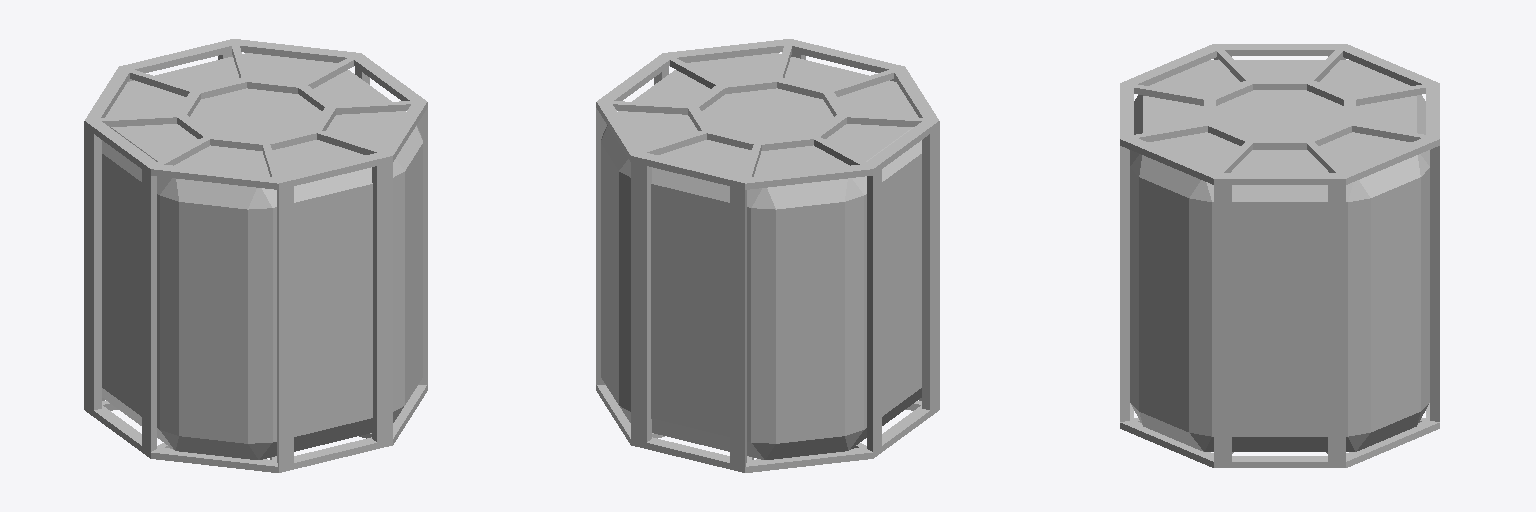
File: fuel3x3.obj
The picture shows the model from 3 angles: view 1: azimuth 30°, elevation 25°; view 2: azimuth 150°, elevation 25°; view 3: azimuth 270°, elevation 25°; orthographic projection.
Parts seen in each view (by area): view 1: Cube_Cube.009, 3x3RFrame.001_Cylinder.016; view 2: Cube_Cube.009, 3x3RFrame.001_Cylinder.016; view 3: Cube_Cube.009, 3x3RFrame.001_Cylinder.016.
Part boxes in pixels (x1,y1,x2,y2): Cube_Cube.009: (102, 53, 422, 459); 3x3RFrame.001_Cylinder.016: (84, 39, 427, 472); Cube_Cube.009: (601, 53, 921, 459); 3x3RFrame.001_Cylinder.016: (596, 39, 939, 472); Cube_Cube.009: (1130, 60, 1429, 451); 3x3RFrame.001_Cylinder.016: (1120, 44, 1439, 467).
Bounding box in the file's own units: 9 × 9 × 9.